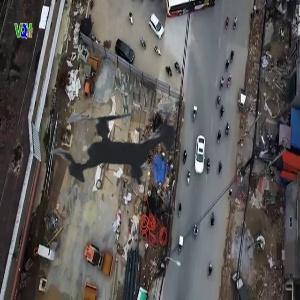drone: (17, 51, 216, 250)
